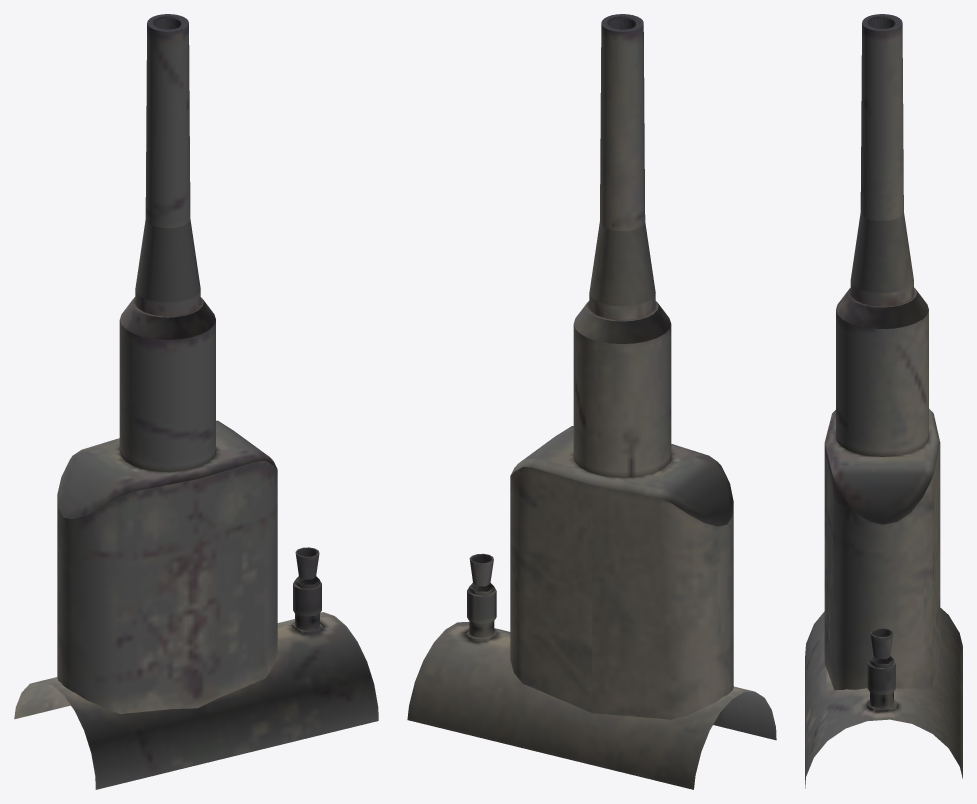
The model's file is Gun_02.glb.
3 views of the same model, side by side, from view 1: azimuth 30°, elevation 25°; view 2: azimuth 150°, elevation 25°; view 3: azimuth 270°, elevation 25° (orthographic). The views are drawn at different scales.
Visible parts, largest first — view 1: set_0_group_0; view 2: set_0_group_0; view 3: set_0_group_0.
Part boxes in pixels (x1,y1,x2,y2): set_0_group_0: (14,14,378,789); set_0_group_0: (407,14,776,789); set_0_group_0: (805,14,962,788).
Bounding box in the file's own units: 0.5916 × 1.42 × 0.2955.
1 material, 1 textured.
